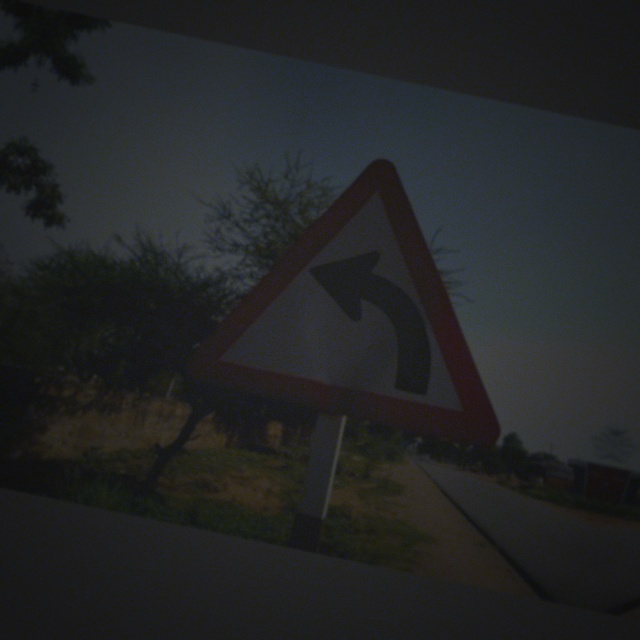Left_Hand_Curve: (202, 134, 548, 450)
